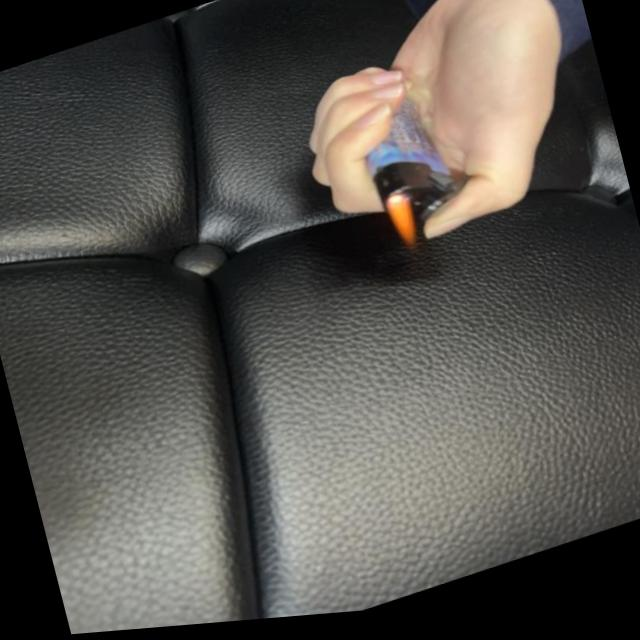Fire: (380, 190, 424, 258)
